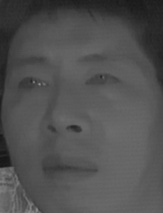eye: (81, 69, 121, 93), (17, 72, 53, 97)
mouth: (38, 149, 101, 186)
